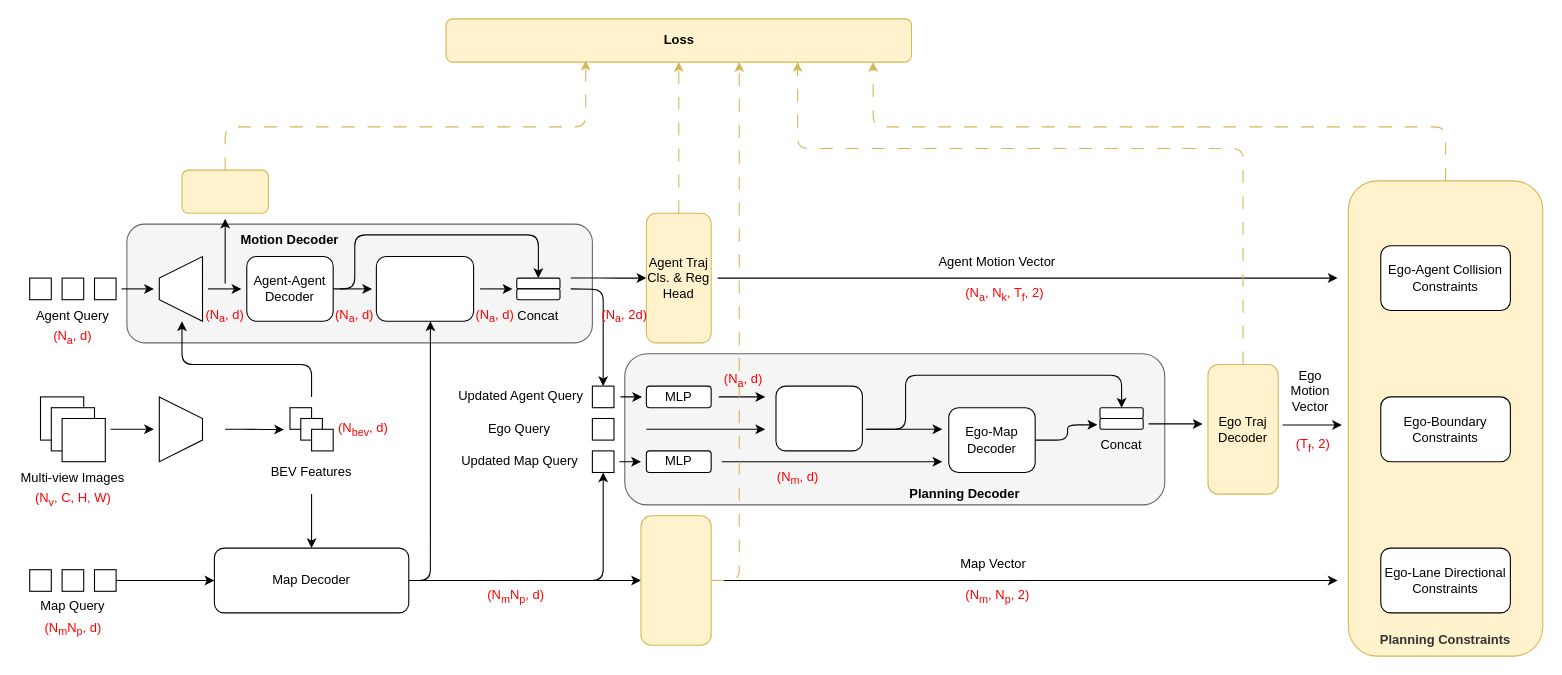
Some shapes in this 1562 by 675 pixel diagram are drawn without their labels. The centre of each missing label's shape, as x and y in pixels:
Agent Cls. & Reg Head: point (224, 191)
Agent-Map Decoder: point (424, 288)
BEV Decoder: point (180, 288)
BEV Encoder: point (180, 429)
Ego-Agent Decoder: point (818, 418)
Map Cls. & Reg Head: point (675, 580)
